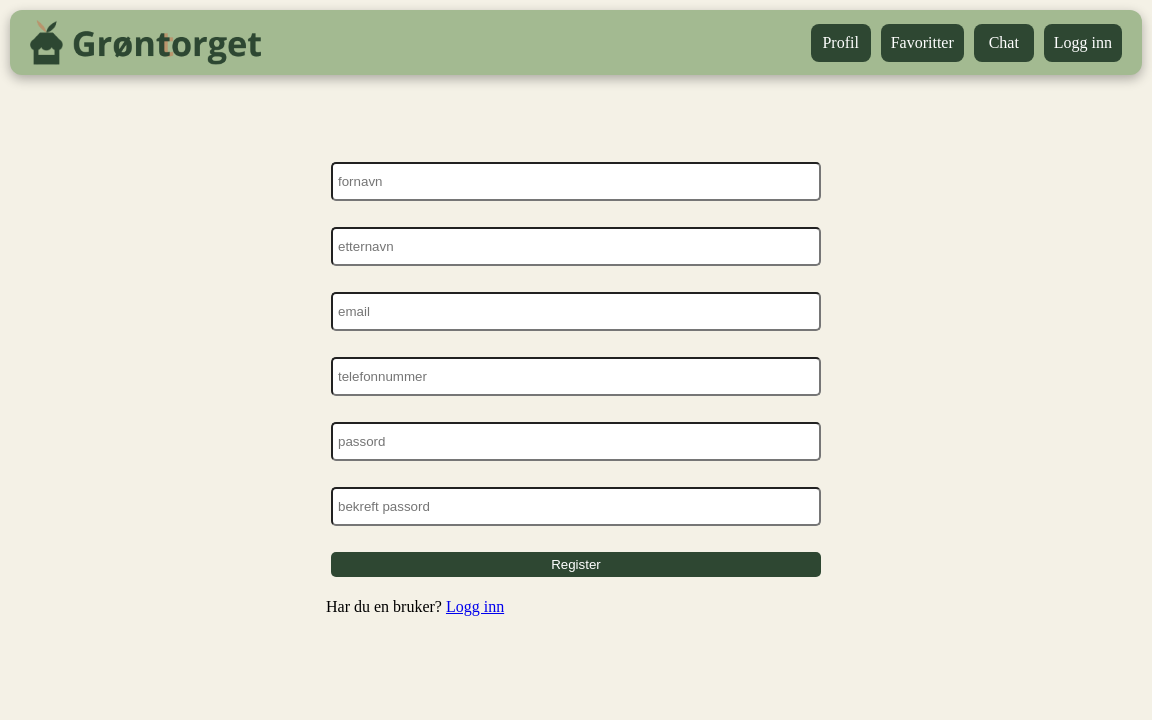
Test: RegisterComponent › should display validation errors for empty fields
This screenshot has width=1152, height=720.
Click the submit button.
click(576, 565)  # box [331,552,821,577]
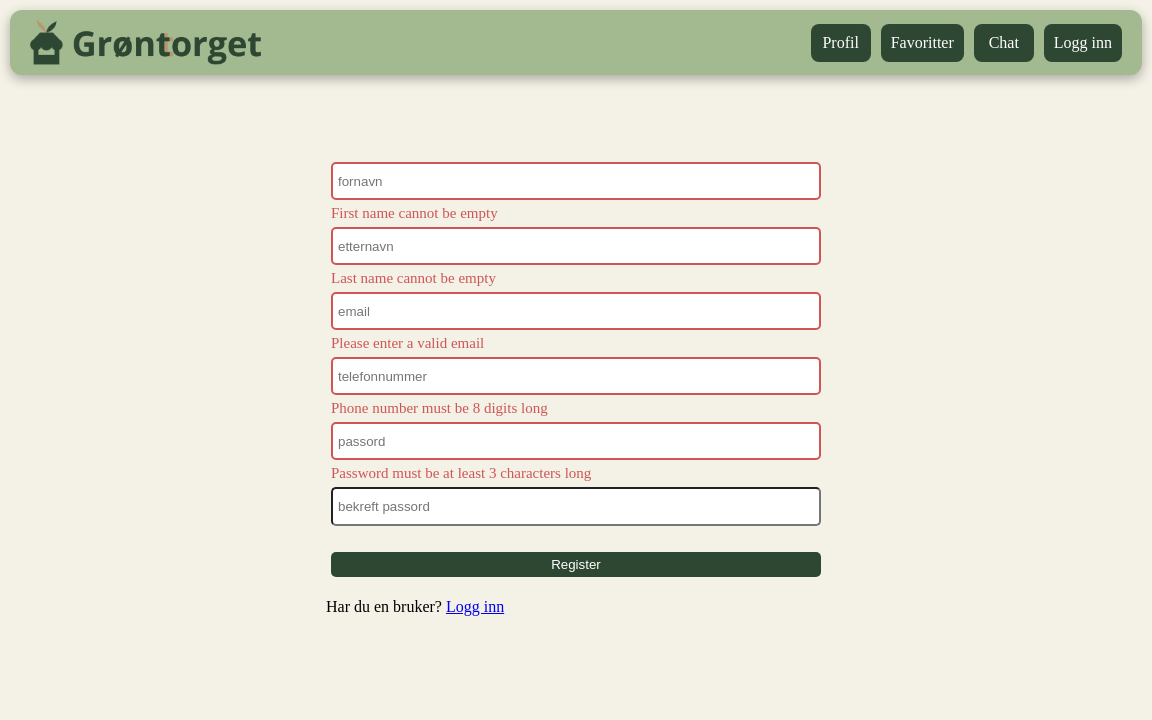
Expected: the text with class "error-message" reads "First name cannot be empty", [331,205,498,221]
Expected: the text with class "error-message" reads "Last name cannot be empty", [331,270,496,286]
Expected: the text with class "error-message" reads "Please enter a valid email", [331,335,484,351]
